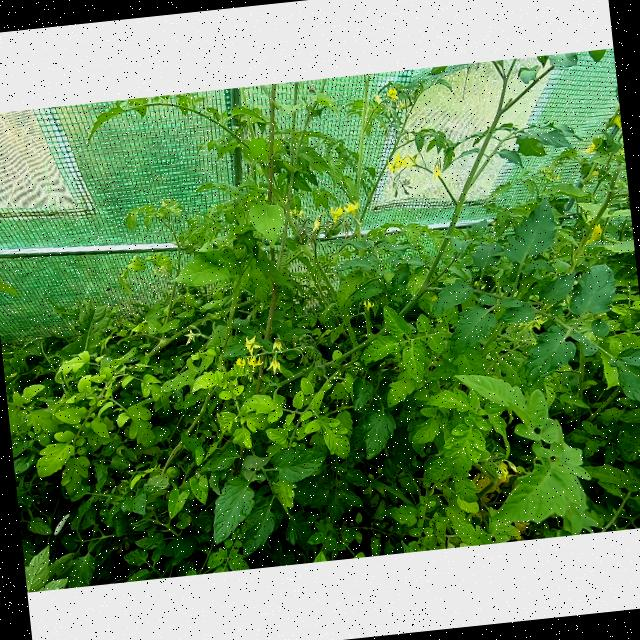Flowers: (382, 148, 419, 170), (584, 220, 607, 244), (183, 324, 207, 344), (493, 460, 518, 479), (243, 334, 262, 356), (266, 354, 286, 374), (540, 164, 562, 182), (342, 200, 361, 220), (326, 204, 344, 224), (384, 84, 401, 104), (247, 354, 266, 371), (310, 212, 326, 232), (606, 110, 622, 130), (430, 160, 444, 180), (152, 262, 168, 278), (270, 335, 284, 352), (582, 140, 596, 156), (363, 298, 377, 312), (234, 355, 246, 368)
